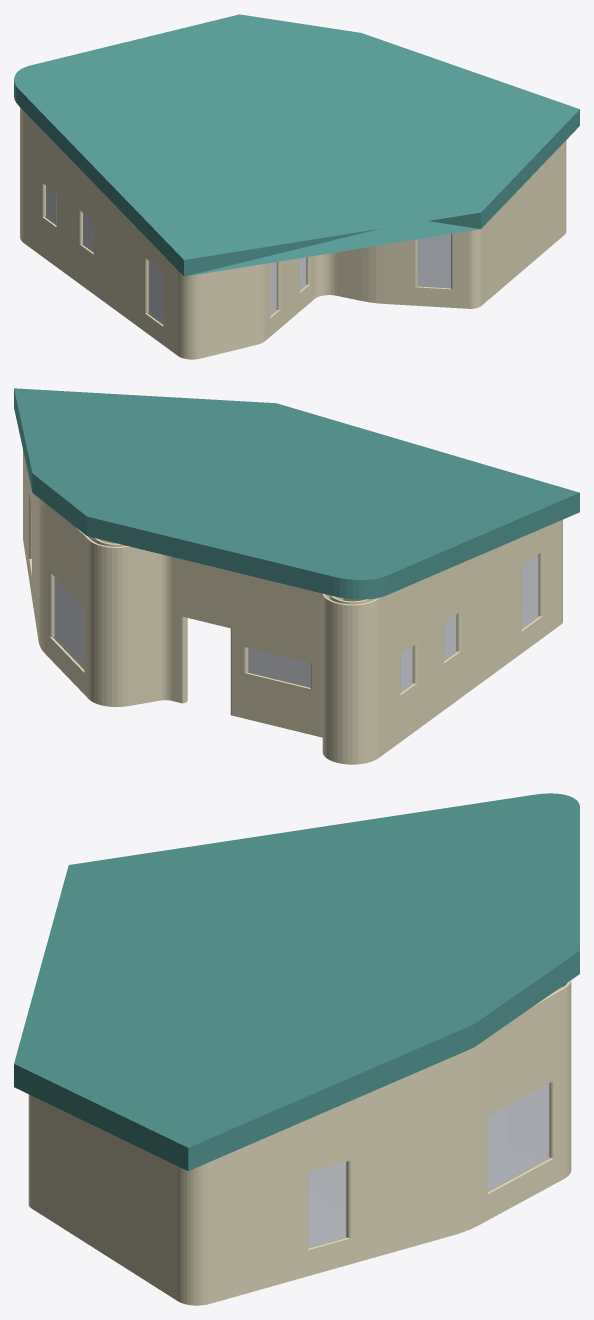
The picture shows the model from 3 angles, top to bottom: view 1: azimuth 30°, elevation 25°; view 2: azimuth 150°, elevation 25°; view 3: azimuth 270°, elevation 25°; orthographic projection. The views are drawn at different scales.
Size of the model in its own units: 41.44 by 14.49 by 32.94.
